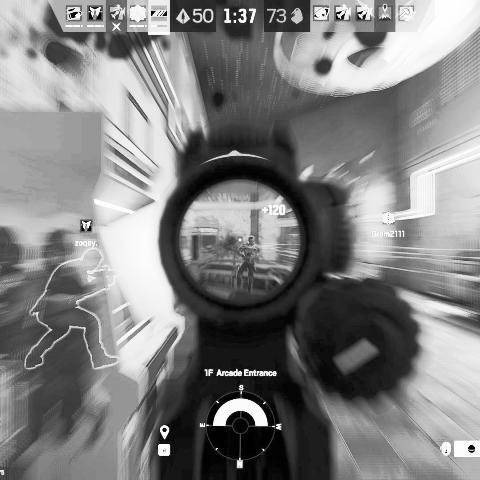Character: (235, 236, 262, 294)
Friend_label: (371, 211, 406, 238), (74, 218, 99, 248)
